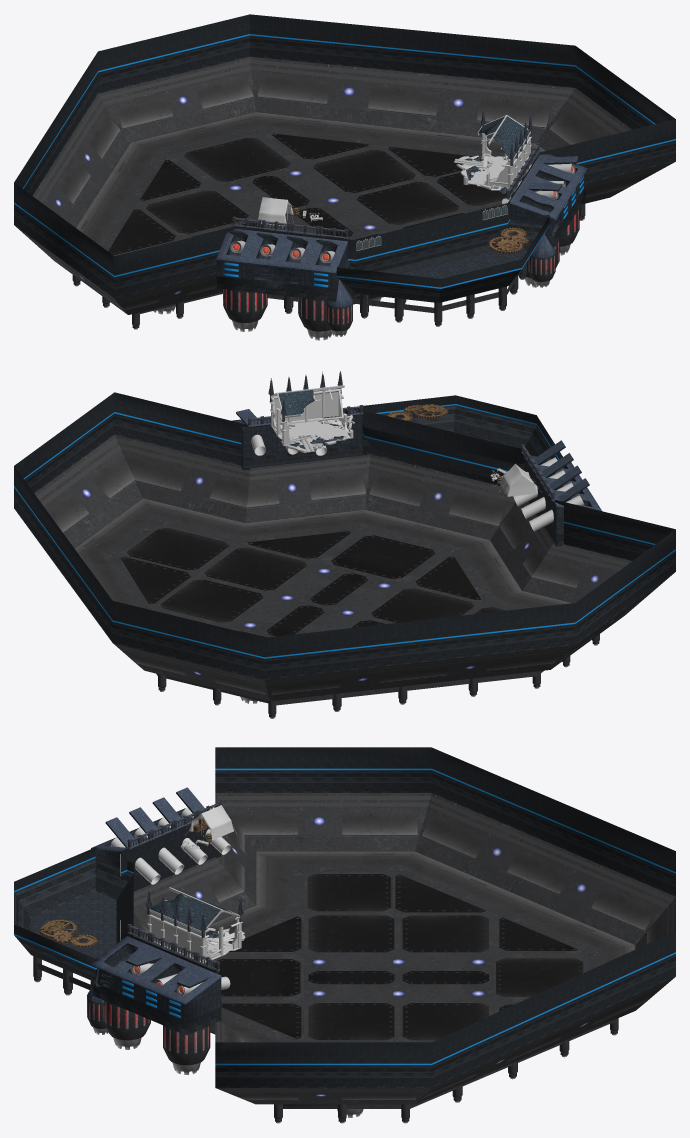
Rendered from basecamp.dae.
The picture shows the model from 3 angles, top to bottom: view 1: azimuth 30°, elevation 25°; view 2: azimuth 150°, elevation 25°; view 3: azimuth 270°, elevation 25°; orthographic projection. The views are drawn at different scales.
Parts seen in each view (by area): view 1: set_base-geom-P10, set_base-geom-P9, set_base-geom-P2, set_base-geom-P1, set_base-geom-P8, set_base-geom-P3, set_base-geom-P0, set_base-geom-P4, set_breakhouse-geom-P1, set_breakhouse-geom-P3, set_bg06_rail01-geom-P0, set_bg06_rail01-geom-P1 (+4 smaller); view 2: set_base-geom-P10, set_base-geom-P9, set_base-geom-P2, set_base-geom-P1, set_base-geom-P8, set_base-geom-P4, set_base-geom-P3, set_base-geom-P0, set_breakhouse-geom-P3, set_base-geom-P7, set_breakhouse-geom-P1, set_tent-geom-P1 (+3 smaller); view 3: set_base-geom-P10, set_base-geom-P9, set_base-geom-P2, set_base-geom-P1, set_base-geom-P8, set_base-geom-P0, set_base-geom-P3, set_base-geom-P4, set_base-geom-P7, set_breakhouse-geom-P3, set_breakhouse-geom-P1, set_bg06_rail01-geom-P0 (+3 smaller).
Boxes of the visible parts, <box> form: set_base-geom-P10: <box>15,56,674,329</box>; set_base-geom-P9: <box>108,132,579,340</box>; set_base-geom-P2: <box>14,14,675,287</box>; set_base-geom-P1: <box>14,46,675,302</box>; set_base-geom-P8: <box>14,35,675,295</box>; set_base-geom-P3: <box>216,151,587,307</box>; set_base-geom-P0: <box>216,163,585,289</box>; set_base-geom-P4: <box>14,34,675,288</box>; set_breakhouse-geom-P1: <box>465,116,529,194</box>; set_breakhouse-geom-P3: <box>457,133,530,189</box>; set_bg06_rail01-geom-P0: <box>232,142,540,237</box>; set_bg06_rail01-geom-P1: <box>232,144,539,238</box>; set_base-geom-P10: <box>34,434,673,718</box>; set_base-geom-P9: <box>118,524,510,703</box>; set_base-geom-P2: <box>14,392,675,657</box>; set_base-geom-P1: <box>14,419,675,679</box>; set_base-geom-P8: <box>14,405,675,669</box>; set_base-geom-P4: <box>14,404,675,658</box>; set_base-geom-P3: <box>231,409,601,510</box>; set_base-geom-P0: <box>241,411,590,534</box>; set_breakhouse-geom-P3: <box>271,389,353,450</box>; set_base-geom-P7: <box>251,434,584,531</box>; set_breakhouse-geom-P1: <box>275,388,355,449</box>; set_tent-geom-P1: <box>490,463,541,496</box>; set_base-geom-P10: <box>33,793,675,1123</box>; set_base-geom-P9: <box>87,871,587,1117</box>; set_base-geom-P2: <box>14,747,675,1063</box>; set_base-geom-P1: <box>22,781,675,1087</box>; set_base-geom-P8: <box>14,770,675,1076</box>; set_base-geom-P0: <box>31,815,221,1021</box>; set_base-geom-P3: <box>87,787,221,1004</box>; set_base-geom-P4: <box>14,768,675,1065</box>; set_base-geom-P7: <box>110,807,231,995</box>; set_breakhouse-geom-P3: <box>150,911,245,962</box>; set_breakhouse-geom-P1: <box>142,893,234,952</box>; set_bg06_rail01-geom-P0: <box>128,801,220,969</box>.
Bounding box in the file's own units: 111 × 33.05 × 105.
